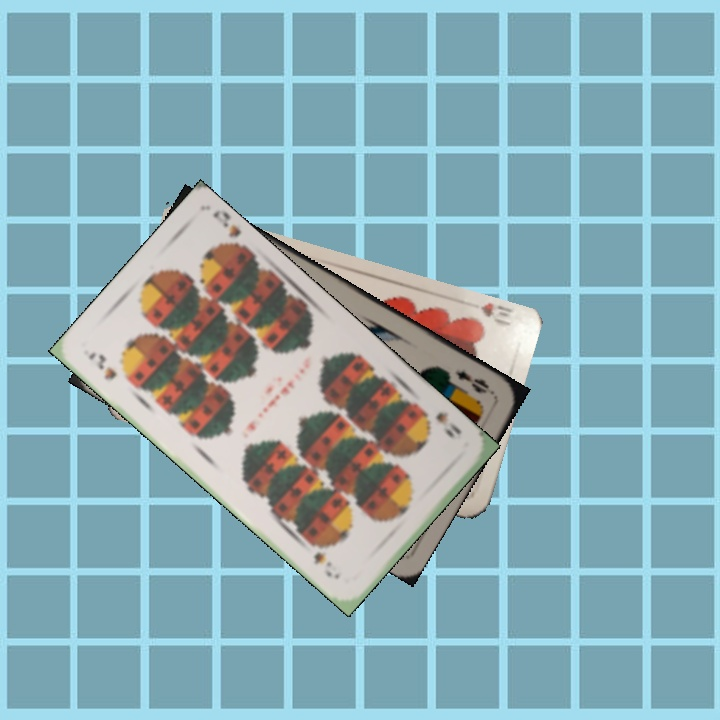EO: (451, 366, 492, 397)
H10: (476, 299, 517, 329)
S9: (416, 405, 464, 440), (84, 347, 119, 383)
